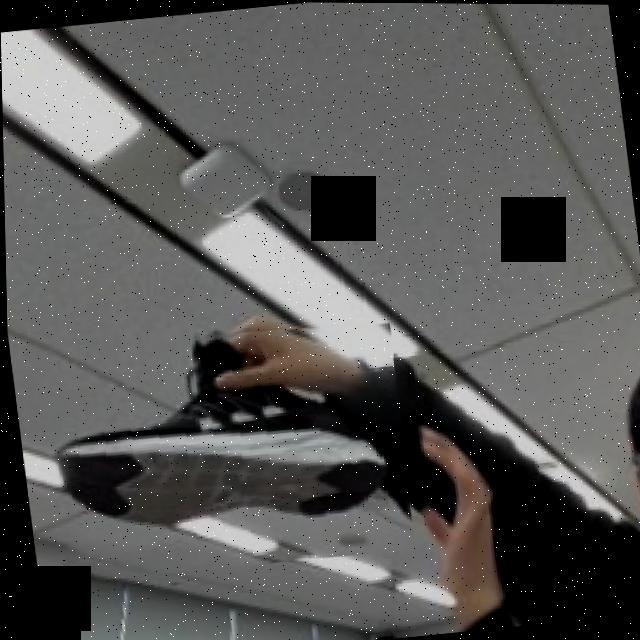shoe: (50, 308, 416, 583)
